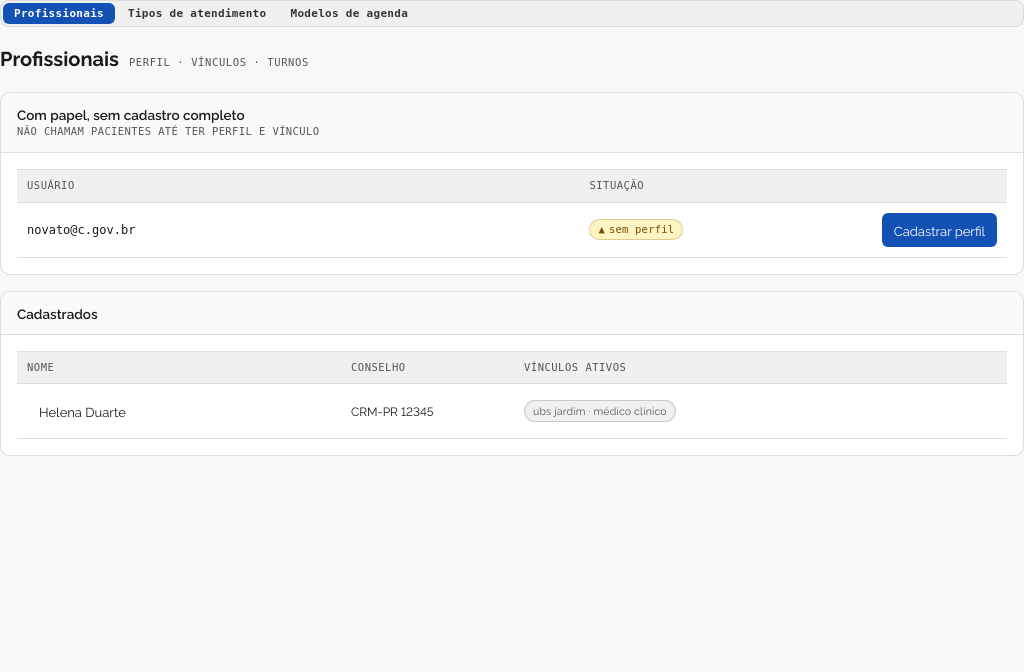
Test case: Professionals › recusa da API aparece traduzida
This screenshot has width=1024, height=672.
Click the button "Cadastrar perfil": coordinates (939, 230) [882, 213, 997, 247]
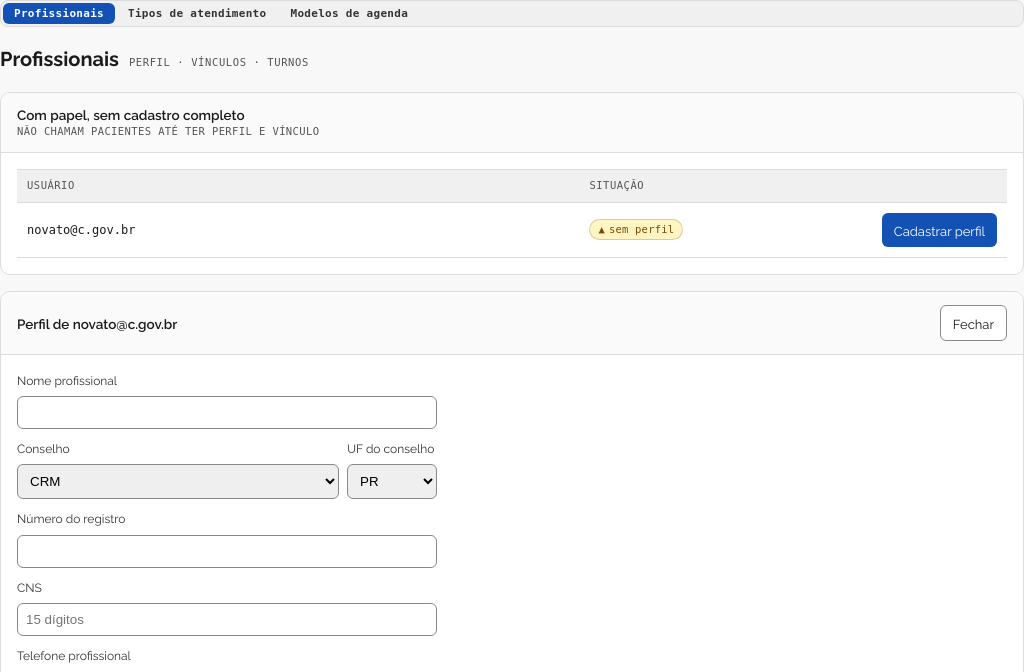
In the field labelled "Nome profissional": coordinates (227, 412) [17, 396, 437, 429], type "Rafael"
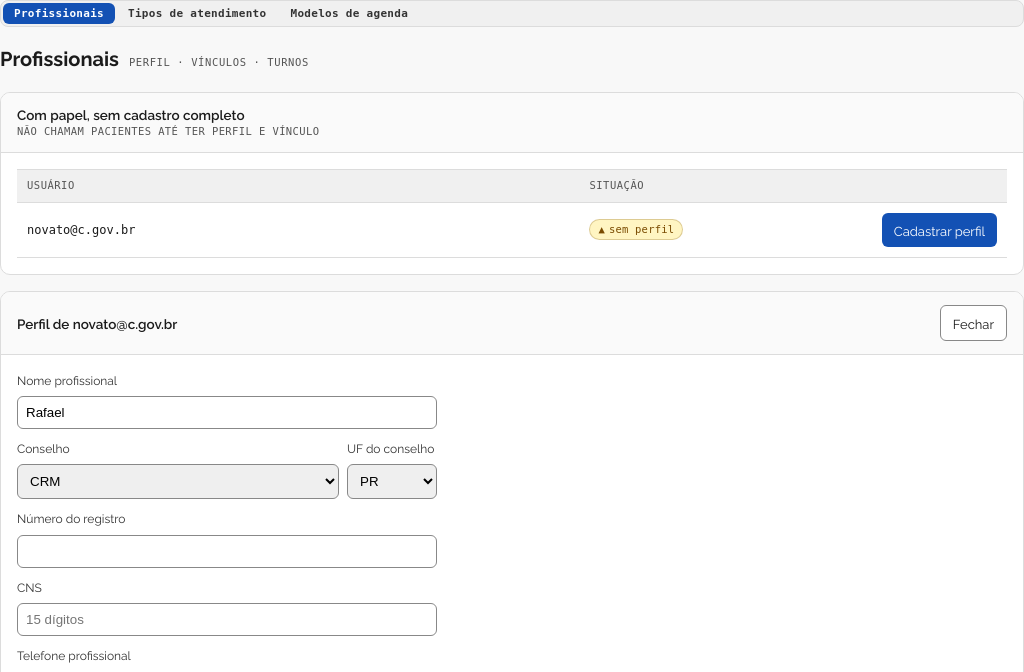
In the field labelled "Número do registro": coordinates (227, 551) [17, 535, 437, 568], type "1"
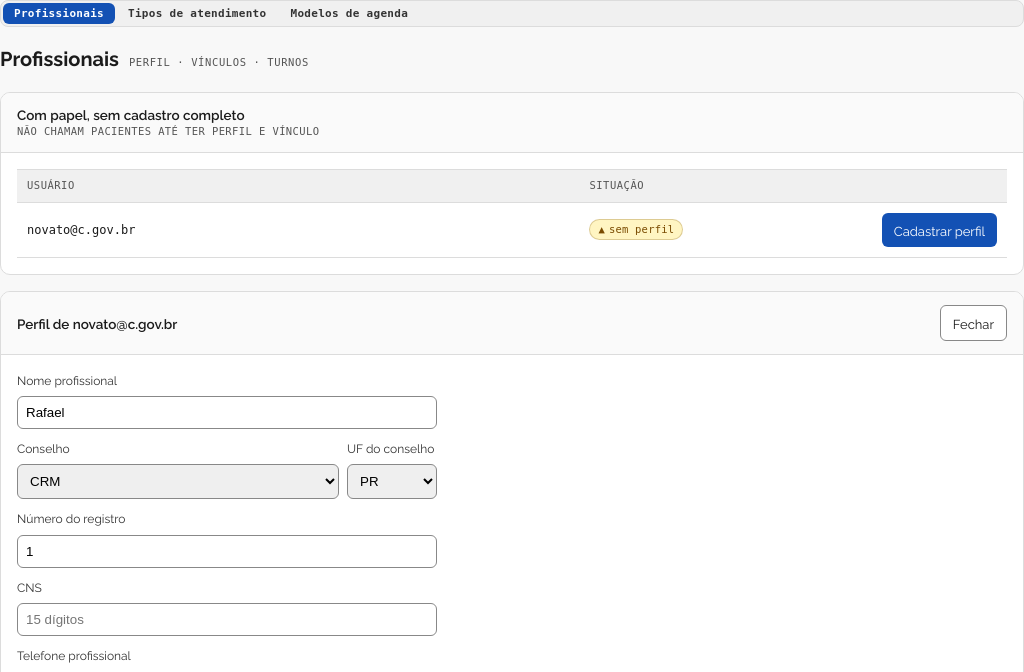
In the field labelled "CNS": coordinates (227, 620) [17, 603, 437, 636], type "700000000000005"
(page scrolled)
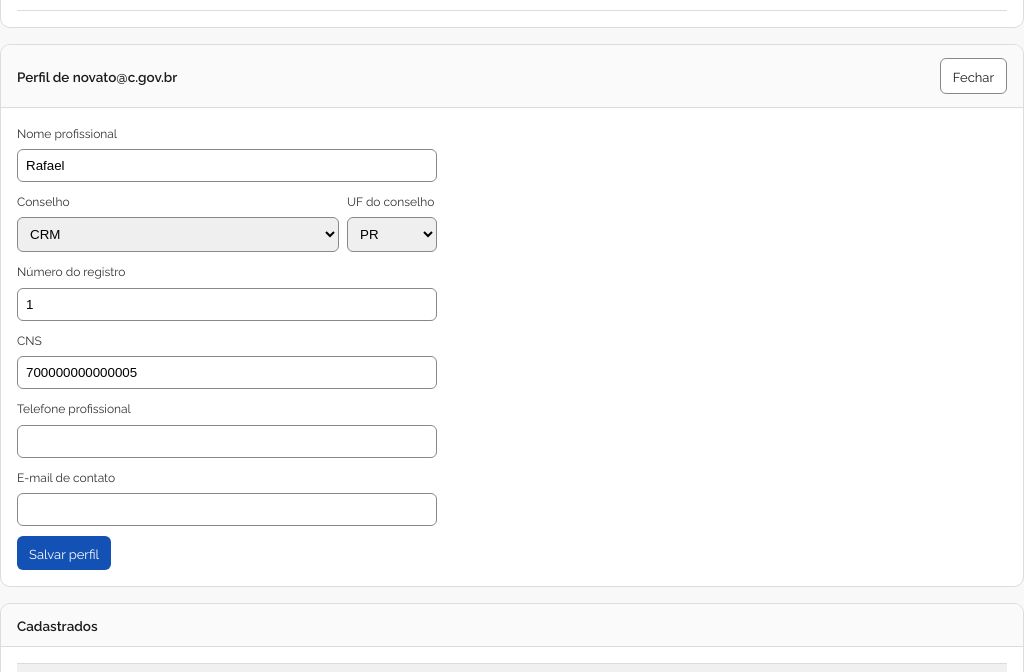
Click the button "Salvar perfil": coordinates (64, 553) [17, 536, 111, 570]
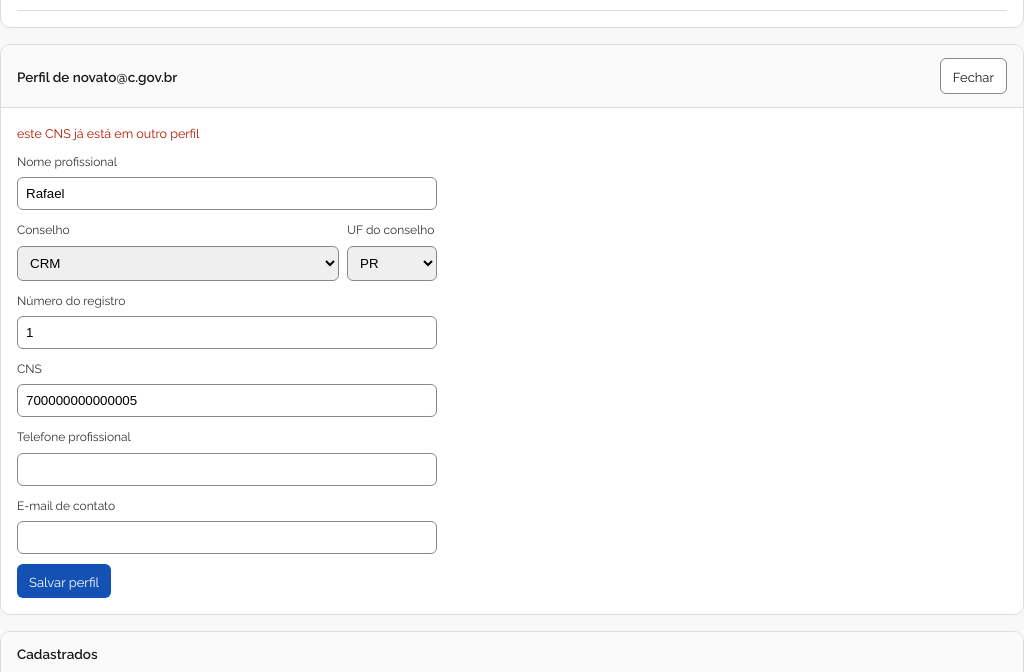
Check: the text "este CNS já está em outro perfil" is shown, box [17, 124, 199, 141]
